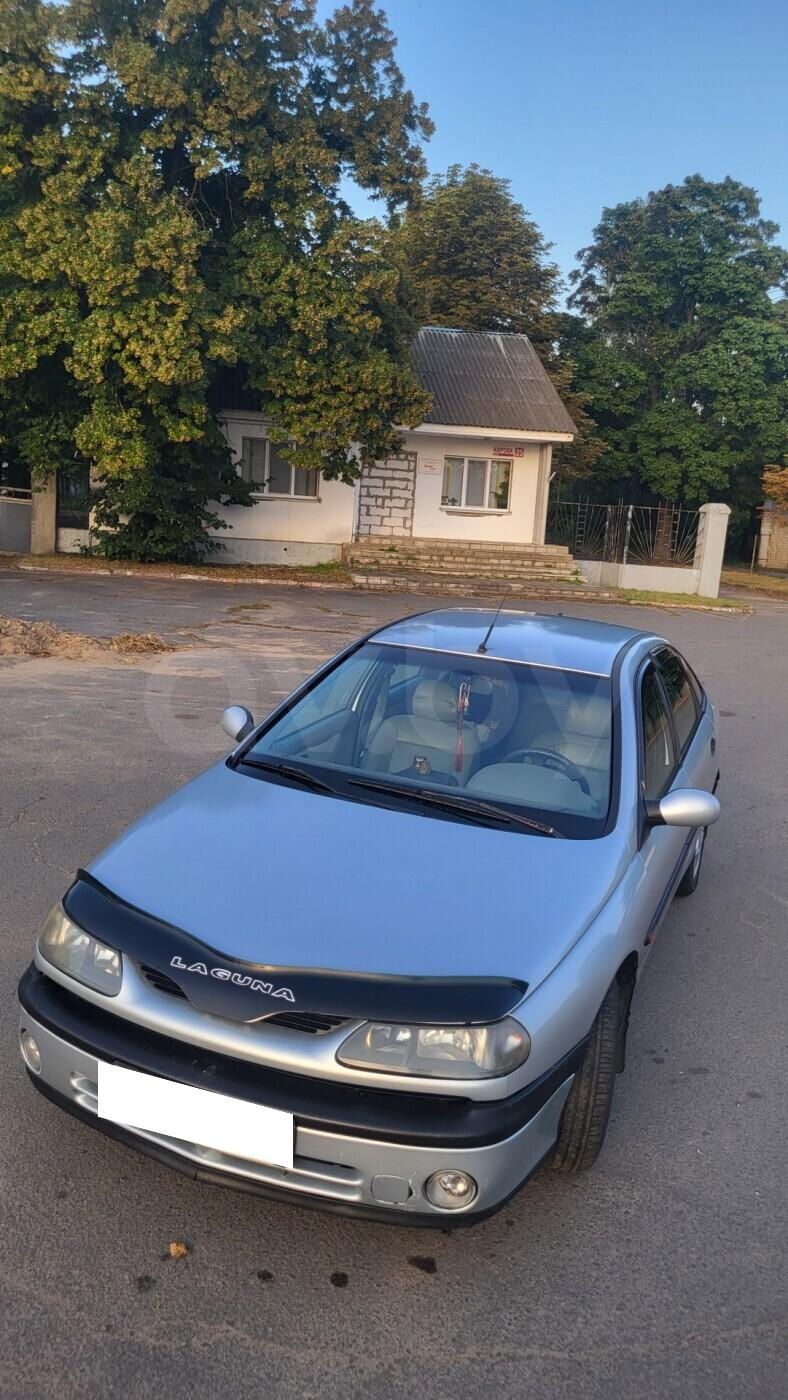Laguna_1998-2001: (20, 606, 732, 1212)
